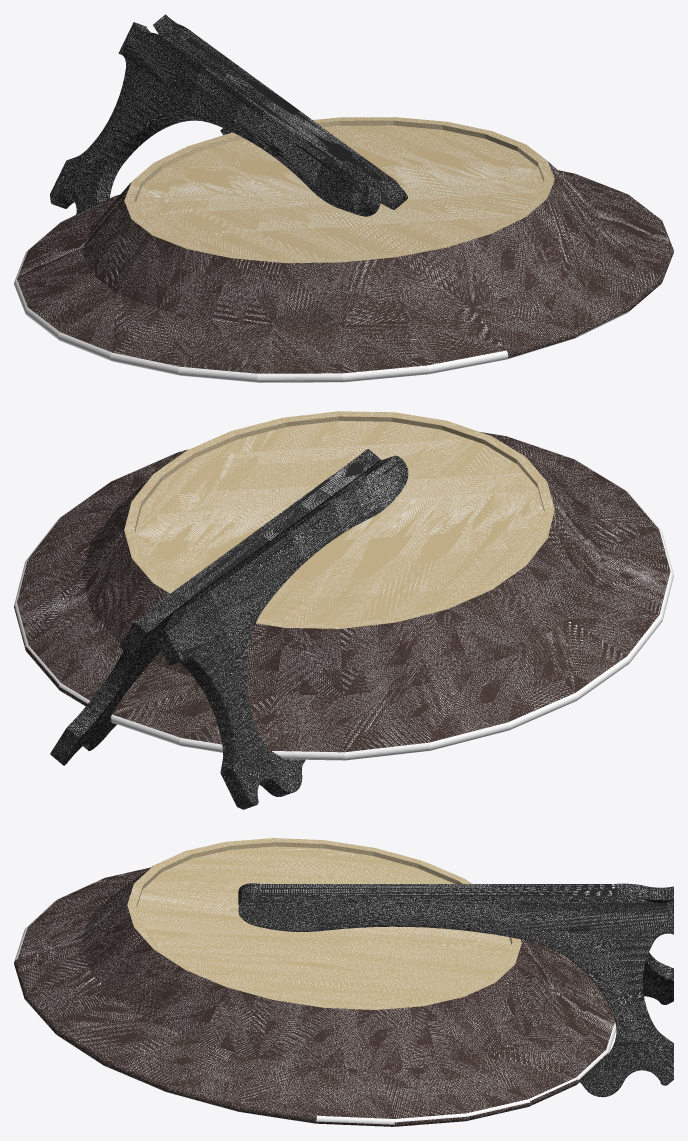
3 renders of one model, top to bottom at view 1: azimuth 30°, elevation 25°; view 2: azimuth 150°, elevation 25°; view 3: azimuth 270°, elevation 25°, orthographic. The views are drawn at different scales.
Parts seen in each view (by area): view 1: decorative plate and stand; view 2: decorative plate and stand; view 3: decorative plate and stand.
Part boxes in pixels (x1,y1,x2,y2): decorative plate and stand: (14,14,673,382); decorative plate and stand: (14,411,673,809); decorative plate and stand: (14,838,673,1126).
Bounding box in the file's own units: 16.09 × 4.82 × 17.46.
